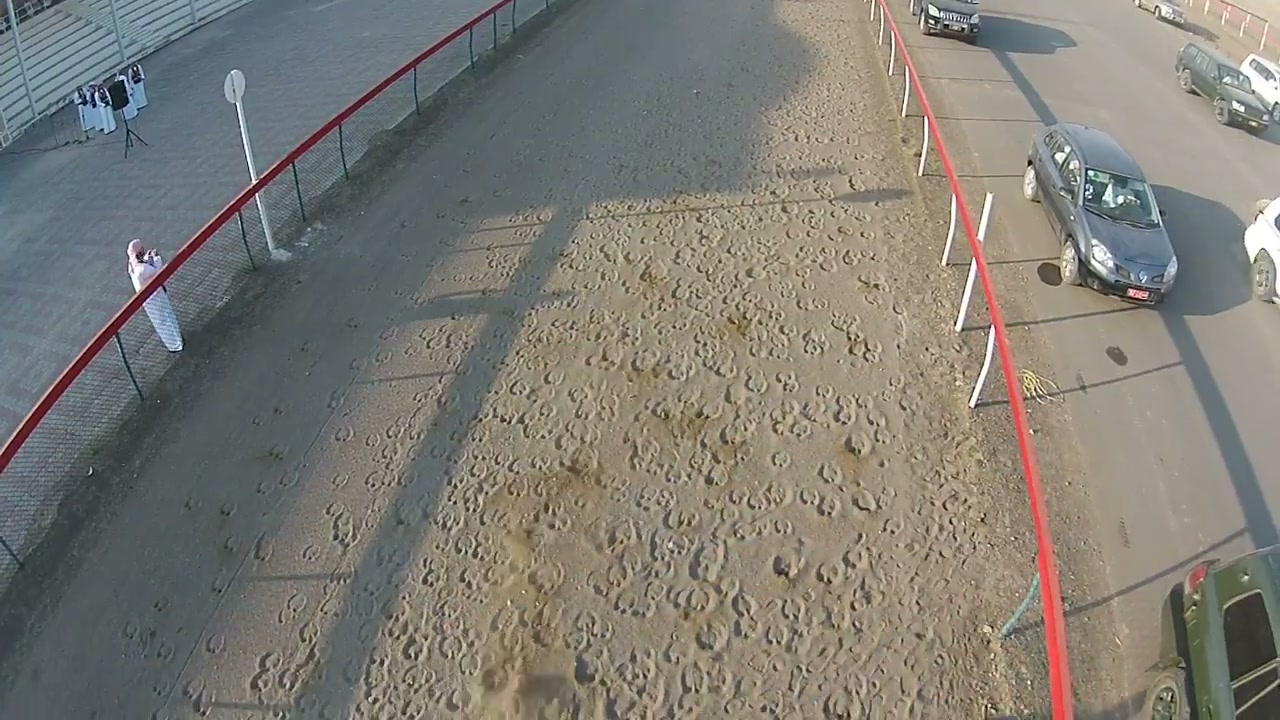animal_footprint: (109, 0, 1017, 718)
